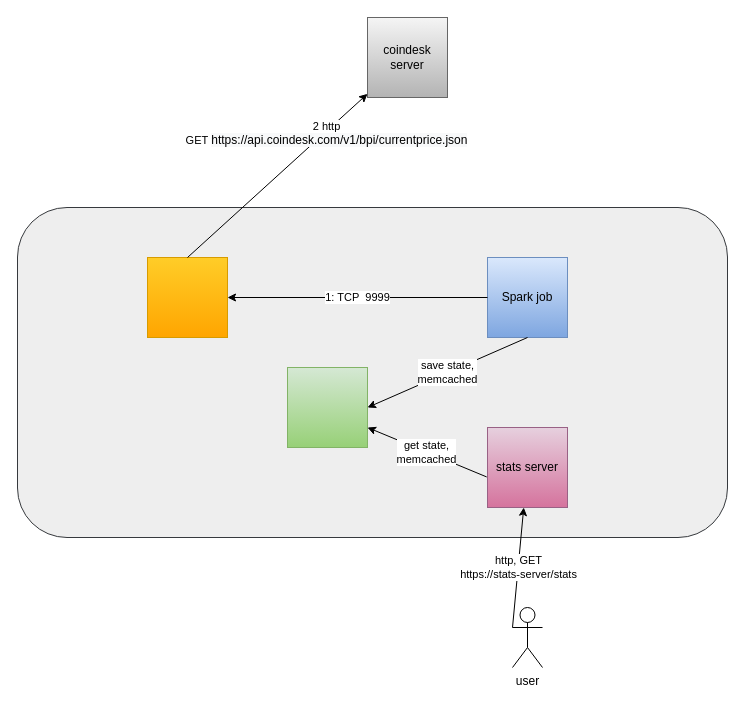
Some shapes in this 745 by 706 pixel diagram are drawn without their labels. Each missing label, with the box of its shape:
data server: (146, 256, 228, 338)
memcached: (286, 366, 368, 448)
